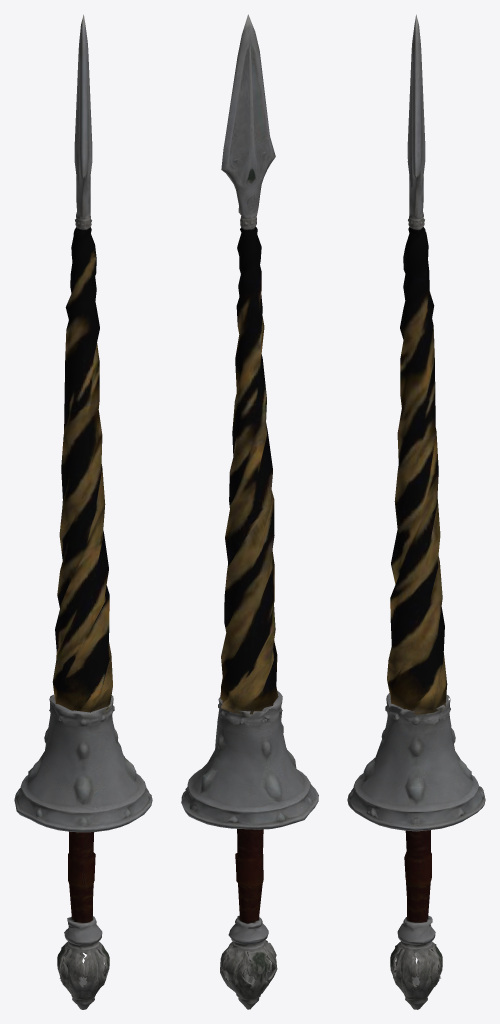
The model's file is w_lance.glb.
The picture shows the model from 3 angles, left to right: view 1: azimuth 90°, elevation 25°; view 2: azimuth 210°, elevation 25°; view 3: azimuth 270°, elevation 25°; orthographic projection.
Parts seen in each view (by area): view 1: w_lance; view 2: w_lance; view 3: w_lance.
Boxes of the visible parts, x1,y1,x2,y2 form: w_lance: (14,14,152,1009); w_lance: (181,14,318,1009); w_lance: (347,14,485,1009).
Bounding box in the file's own units: 0.3855 × 3 × 0.3778.
1 material, 1 textured.
